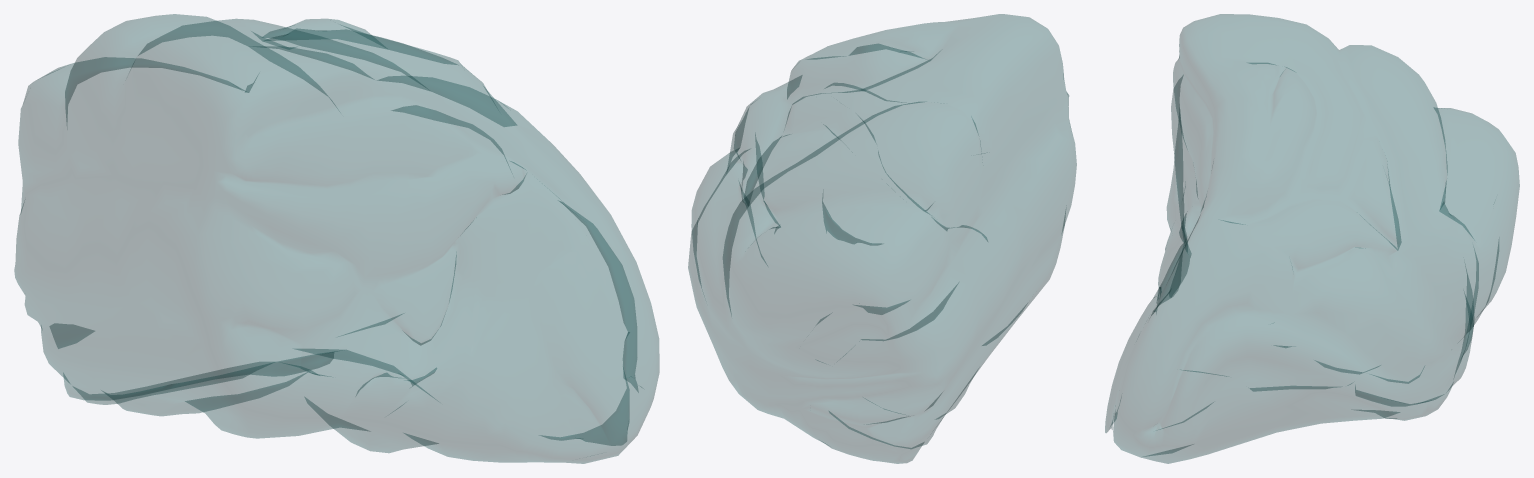
The model's file is Transperent Parietal_Lobe.gltf.
3 renders of one model, left to right at view 1: azimuth 30°, elevation 25°; view 2: azimuth 150°, elevation 25°; view 3: azimuth 270°, elevation 25°, orthographic. The views are drawn at different scales.
Visible parts, largest first — view 1: Parietal_Lobe_Left; view 2: Parietal_Lobe_Left; view 3: Parietal_Lobe_Left.
Part boxes in pixels (<box>): Parietal_Lobe_Left: <box>14,14,659,463</box>; Parietal_Lobe_Left: <box>688,14,1076,463</box>; Parietal_Lobe_Left: <box>1105,14,1519,463</box>.
Size of the model in its own units: 6.74 by 6.72 by 7.39.
